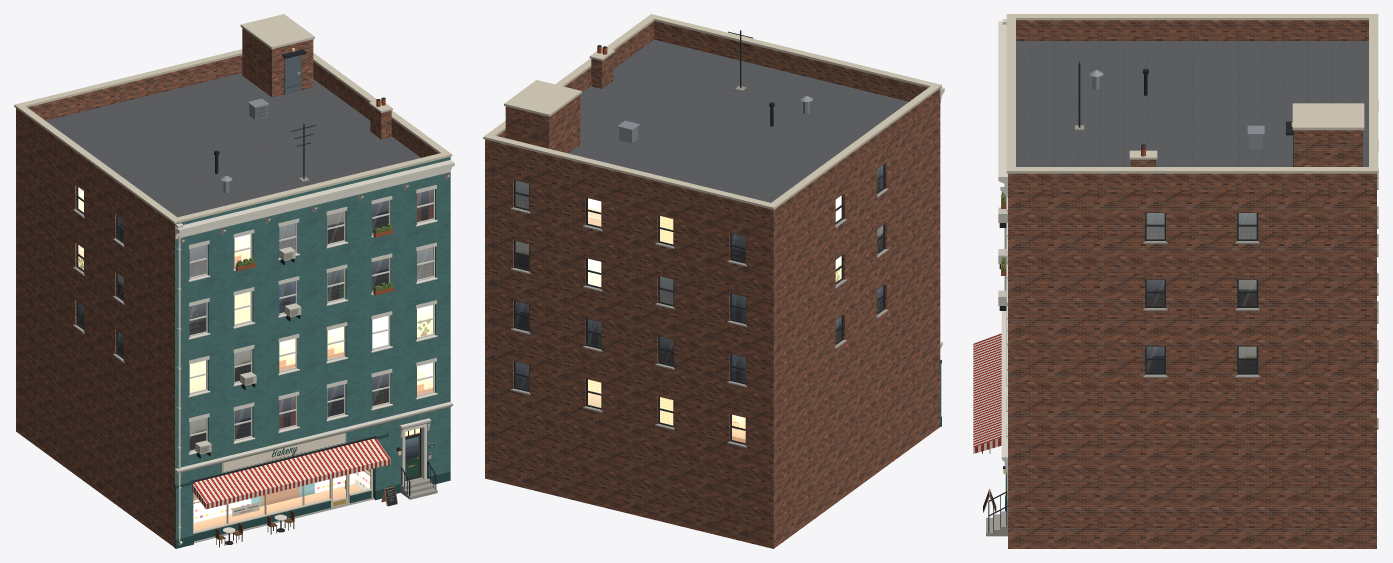
The model's file is Bakery.fbx.
3 views of the same model, side by side, from view 1: azimuth 30°, elevation 25°; view 2: azimuth 150°, elevation 25°; view 3: azimuth 270°, elevation 25° (orthographic). The views are drawn at different scales.
Parts seen in each view (by area): view 1: Bakery_Mesh; view 2: Bakery_Mesh; view 3: Bakery_Mesh.
Part boxes in pixels (box(x1,y1,x2,y2)): Bakery_Mesh: box(14, 14, 454, 548); Bakery_Mesh: box(483, 14, 944, 548); Bakery_Mesh: box(973, 14, 1378, 548).
Size of the model in its own units: 16.14 by 20.09 by 17.57.
